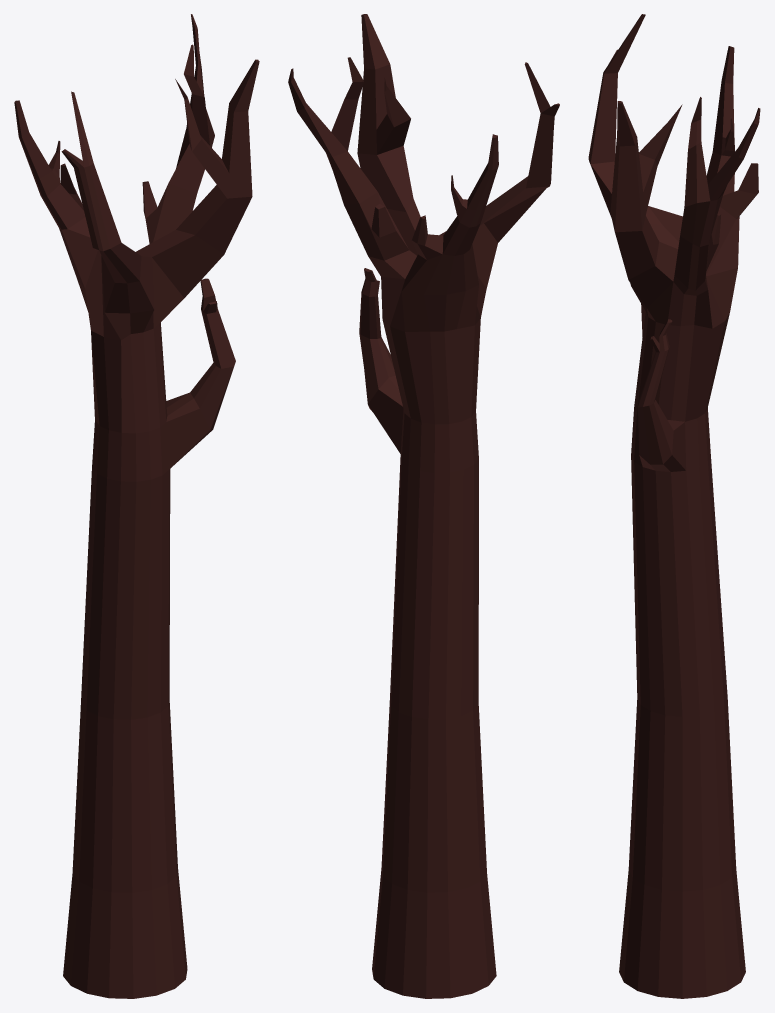
The model's file is Tree3b.fbx.
3 views of the same model, side by side, from view 1: azimuth 30°, elevation 25°; view 2: azimuth 150°, elevation 25°; view 3: azimuth 270°, elevation 25° (orthographic).
Visible parts, largest first — view 1: Tree3.001; view 2: Tree3.001; view 3: Tree3.001.
Boxes of the visible parts, bbox=[...] form: Tree3.001: bbox=[14, 14, 259, 998]; Tree3.001: bbox=[288, 14, 559, 998]; Tree3.001: bbox=[588, 14, 760, 998].
Bounding box in the file's own units: 420 × 1803 × 305.
